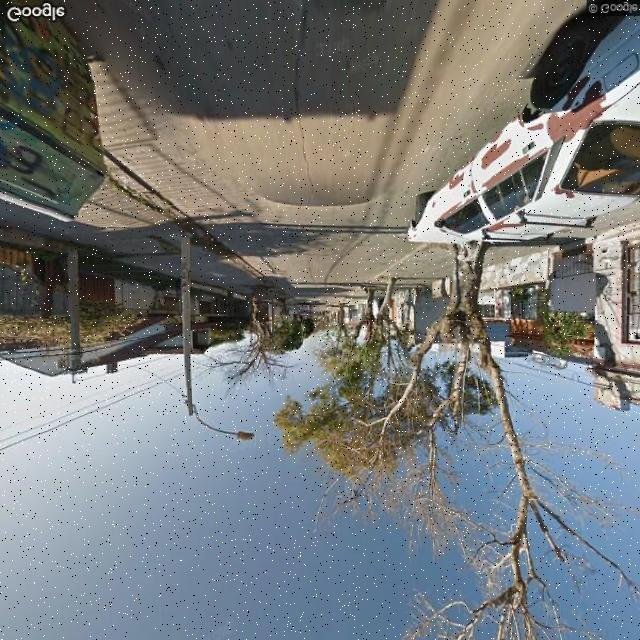garbage container: (2, 1, 143, 234)
